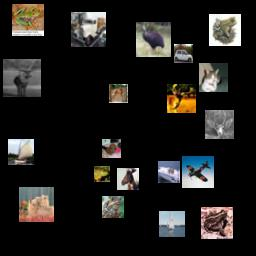airplane: (182, 156, 214, 188)
automobile: (174, 44, 193, 63)
bird: (136, 22, 171, 57)
cat: (19, 187, 54, 222), (199, 63, 228, 92)
deer: (3, 59, 41, 97), (167, 84, 196, 113), (205, 110, 234, 139), (109, 84, 128, 103)
dog: (102, 139, 121, 158)
frog: (12, 4, 44, 36), (201, 207, 233, 239), (209, 14, 241, 46), (102, 196, 124, 218), (94, 166, 110, 182)
ship: (8, 139, 34, 165), (159, 211, 185, 237), (158, 161, 180, 183)
truck: (71, 12, 106, 47)
